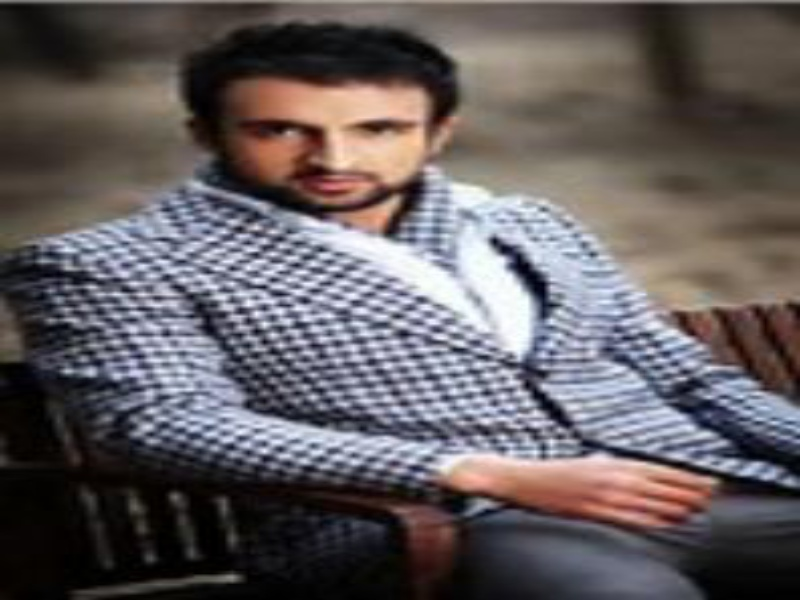TsisyArotava: (172, 12, 467, 233)
